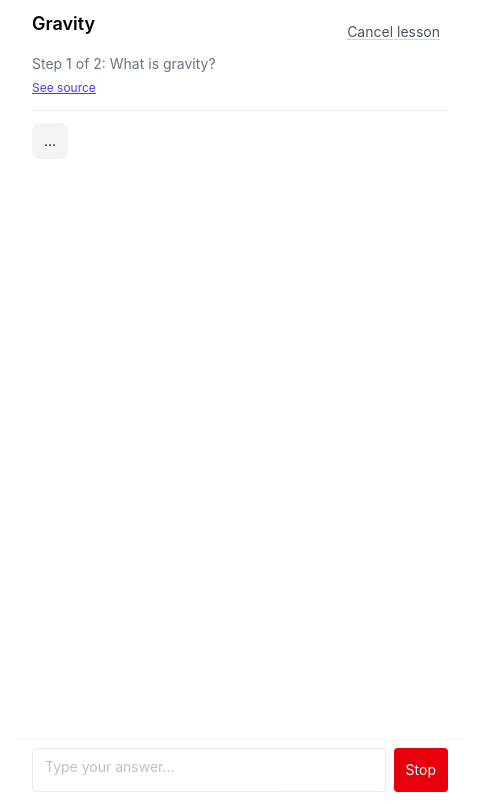
Test: ChatScreen › clicking Stop aborts the AbortSignal passed to streamTutorTurn
What coordinates should you click on to do the following:
click the button "Stop"
I would click on:
 (421, 770)
Its box is x1=394 y1=748 x2=448 y2=792.
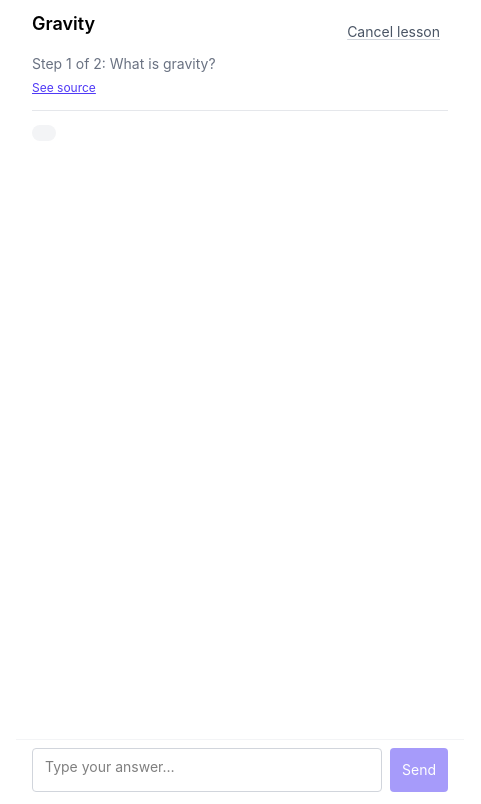
Expected: the button "Stop" is gone
